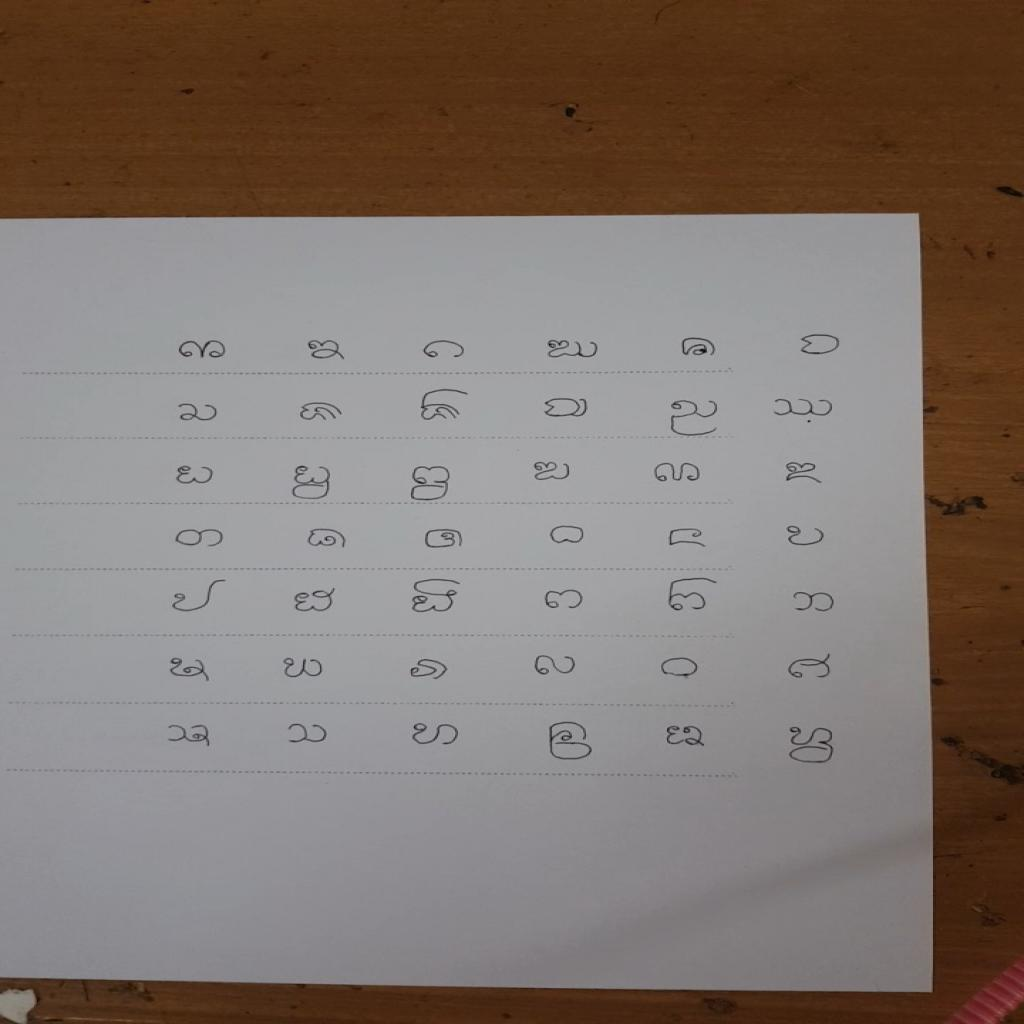LN001: (176, 339, 230, 362)
LN002: (304, 338, 349, 363)
LN003: (420, 339, 470, 362)
LN004: (543, 338, 602, 361)
LN005: (678, 337, 719, 360)
LN006: (798, 333, 843, 358)
LN007: (175, 401, 222, 425)
LN008: (298, 401, 346, 424)
LN009: (417, 387, 472, 423)
LN010: (540, 396, 593, 422)
LN011: (667, 398, 724, 438)
LN012: (769, 396, 838, 420)
LN013: (174, 465, 217, 487)
LN014: (289, 464, 335, 502)
LN015: (408, 466, 454, 504)
LN016: (531, 460, 575, 484)
LN017: (650, 462, 704, 486)
LN018: (781, 461, 826, 486)
LN019: (171, 528, 229, 550)
LN020: (305, 528, 349, 551)
LN021: (422, 528, 467, 552)
LN022: (548, 525, 589, 547)
LN023: (666, 528, 710, 551)
LN024: (784, 524, 828, 549)
LN025: (169, 578, 231, 615)
LN026: (291, 587, 340, 615)
LN027: (408, 578, 463, 617)
LN028: (542, 588, 587, 612)
LN029: (665, 576, 722, 615)
LN030: (790, 590, 838, 615)
LN031: (167, 656, 215, 684)
LN032: (280, 656, 327, 680)
LN033: (408, 657, 451, 682)
LN034: (534, 653, 578, 678)
LN035: (659, 656, 702, 679)
LN036: (785, 652, 836, 682)
LN037: (165, 722, 216, 750)
LN038: (286, 721, 331, 747)
LN039: (409, 721, 462, 749)
LN040: (546, 720, 595, 763)
LN041: (663, 725, 708, 750)
LN042: (786, 724, 838, 767)
